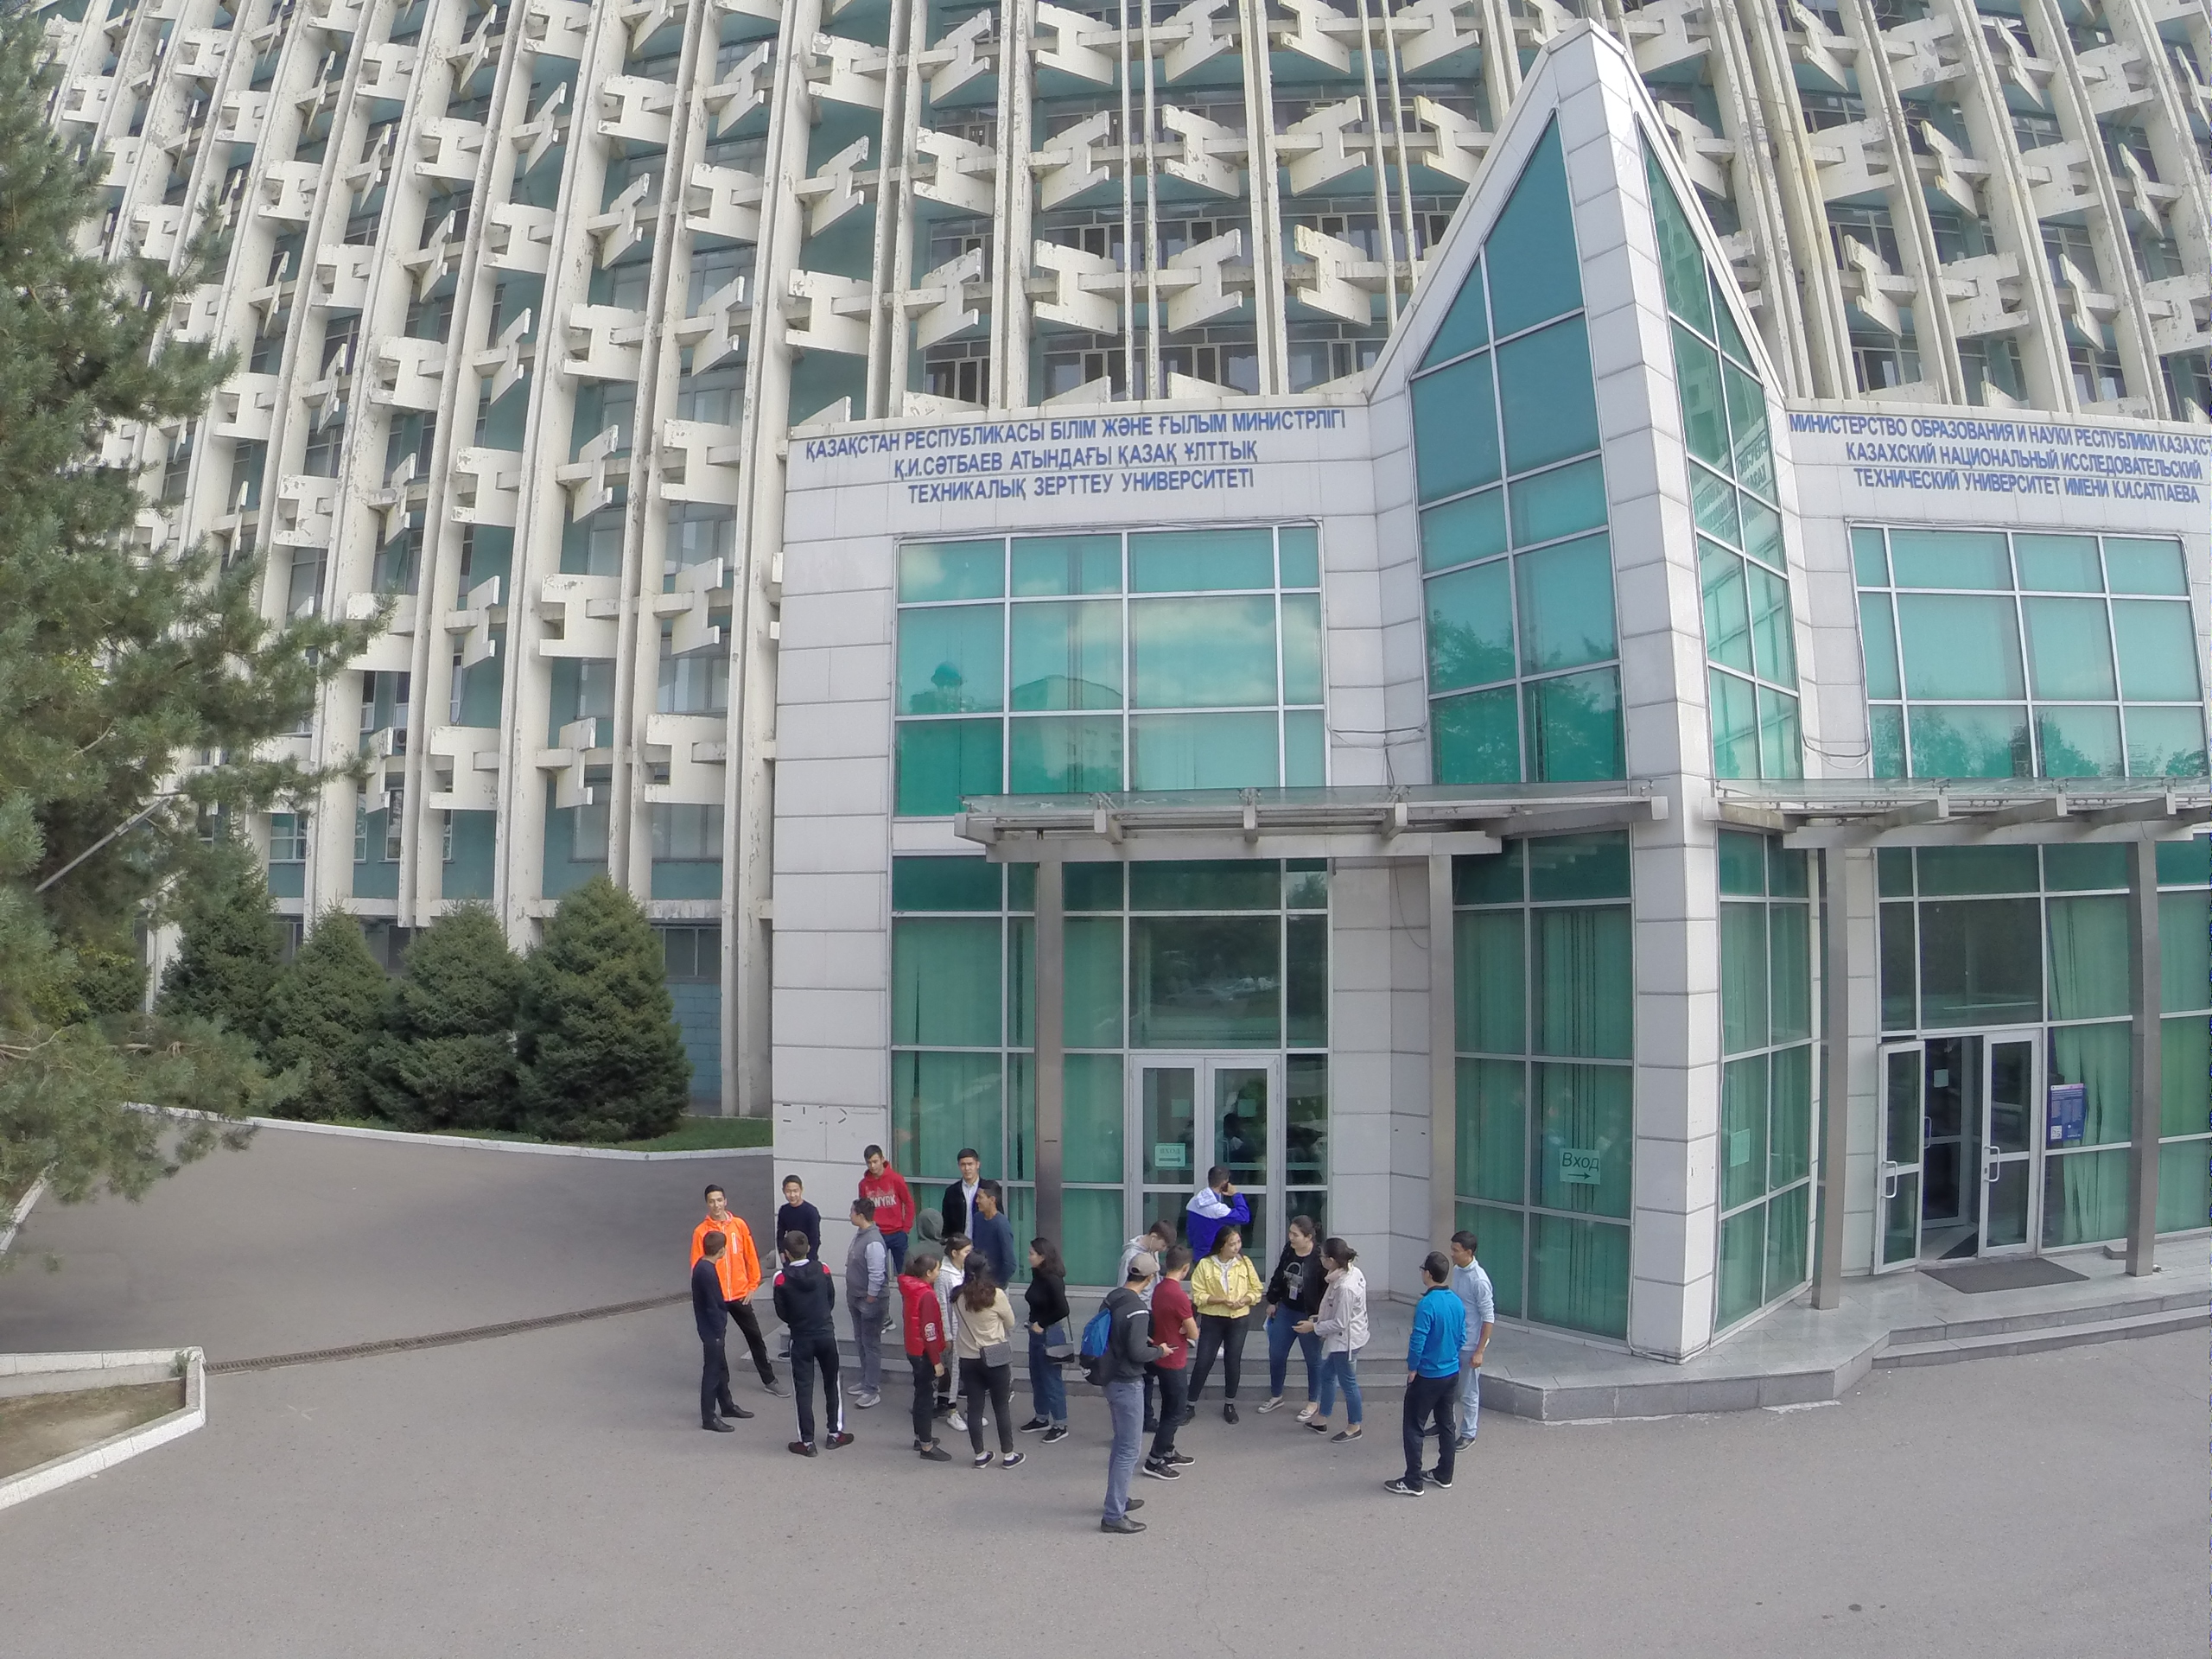person: (767, 1232, 855, 1464), (1084, 1259, 1156, 1538), (955, 1252, 1026, 1473), (1395, 1254, 1459, 1497), (889, 1253, 957, 1468), (684, 1230, 754, 1442), (1306, 1241, 1368, 1447), (1020, 1236, 1078, 1443), (1198, 1227, 1258, 1425), (1275, 1212, 1326, 1413), (841, 1203, 890, 1408), (1446, 1230, 1490, 1452), (1160, 1251, 1198, 1483), (1184, 1164, 1248, 1230), (863, 1147, 907, 1211), (946, 1148, 976, 1225), (777, 1176, 819, 1231), (978, 1177, 1012, 1247), (698, 1180, 735, 1230)
